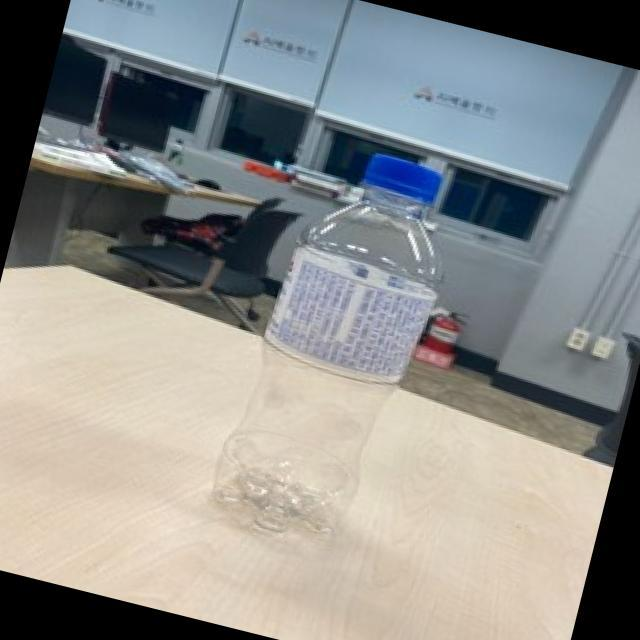good: (196, 117, 477, 580)
